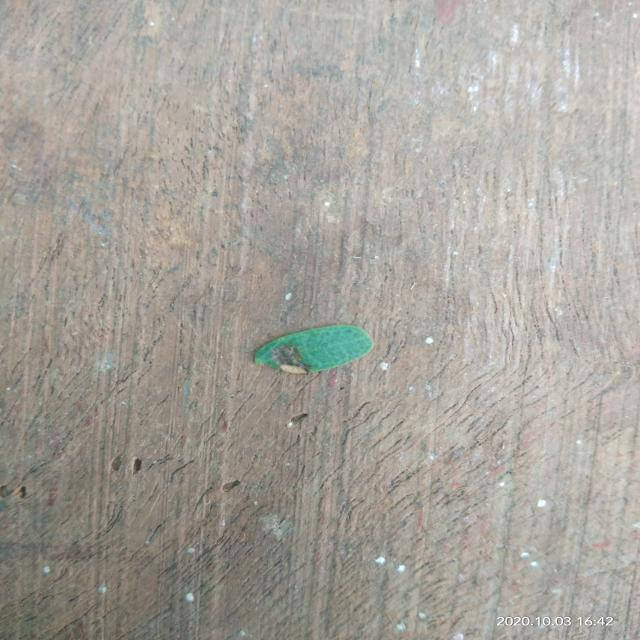defectedtamarind: (255, 329, 320, 374)
tamarind: (255, 325, 373, 374)
